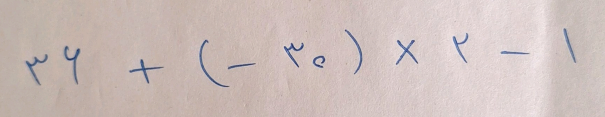character: (198, 37, 226, 93), (341, 24, 366, 75), (126, 56, 167, 86), (25, 52, 52, 88), (393, 36, 422, 69), (62, 44, 84, 87), (227, 55, 259, 81), (561, 24, 580, 66), (450, 29, 470, 66), (283, 39, 306, 71), (499, 44, 531, 65), (311, 51, 330, 73)
